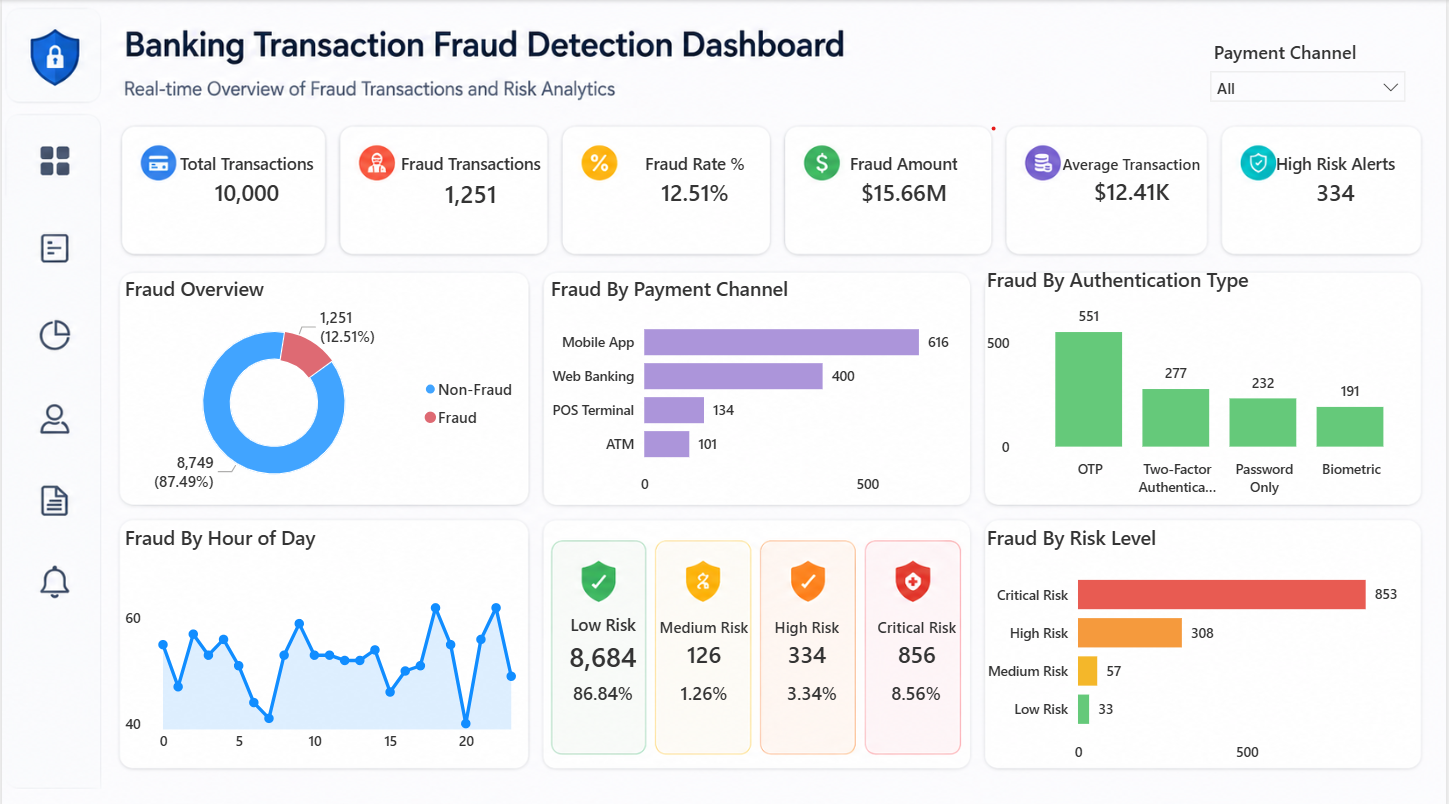

Layout of this report page (visuals, bound fields, positions):
{"tool":"powerbi","page":{"name":"Banking Transaction Fraud Detection ","canvas":[1280,720],"ordinal":0},"visuals":[{"type":"cardVisual","fields":{"Data":["banking_fraud_dashboard_data.Total Transactions"]},"box":[113.7,105,207.9,109.4],"z":0},{"type":"cardVisual","fields":{"Data":["banking_fraud_dashboard_data.Fraud Transactions"]},"box":[311.9,105,207.9,109.4],"z":1000},{"type":"cardVisual","fields":{"Data":["banking_fraud_dashboard_data.Fraud Rate %"]},"box":[511.1,105,207.9,109.4],"z":2000},{"type":"cardVisual","fields":{"Data":["banking_fraud_dashboard_data.Fraud Amount"]},"box":[696.3,105,207.9,109.4],"z":3000},{"type":"cardVisual","fields":{"Data":["banking_fraud_dashboard_data.Average Transaction"]},"box":[904.2,105,194.9,109.4],"z":4000},{"type":"cardVisual","fields":{"Data":["banking_fraud_dashboard_data.High Risk Alerts"]},"box":[1085.1,105,194.9,109.4],"z":5000},{"type":"slicer","fields":{"Values":["banking_fraud_dashboard_data.payment_channel"]},"box":[1061.3,30.3,192.8,65],"z":6000},{"type":"donutChart","title":"Fraud Overview","fields":{"Category":["banking_fraud_dashboard_data.fraud_category"],"Y":["banking_fraud_dashboard_data.Total Transactions"]},"box":[104,243.7,362.8,203.6],"z":8000},{"type":"clusteredBarChart","title":"Fraud By Payment Channel","fields":{"Category":["banking_fraud_dashboard_data.payment_channel"],"Y":["banking_fraud_dashboard_data.Fraud Transactions"]},"box":[481.9,243.7,376.9,203.6],"z":9000},{"type":"columnChart","title":"Fraud By Authentication Type","fields":{"Category":["banking_fraud_dashboard_data.authentication_type"],"Y":["banking_fraud_dashboard_data.Fraud Transactions"]},"box":[868.5,236.1,395.3,211.2],"z":10000},{"type":"lineChart","title":"Fraud By Hour of Day","fields":{"Category":["banking_fraud_dashboard_data.transaction_time_hour"],"Y":["banking_fraud_dashboard_data.Fraud Transactions"]},"box":[104,464.6,362.8,211.2],"z":11000},{"type":"clusteredBarChart","title":"Fraud By Risk Level","fields":{"Category":["banking_fraud_dashboard_data.ml_risk_band"],"Y":["banking_fraud_dashboard_data.Fraud Transactions"]},"box":[868.5,464.6,385.5,220.9],"z":12000},{"type":"cardVisual","fields":{"Data":["banking_fraud_dashboard_data.Low Risk"]},"box":[466.7,515.5,133.2,109.4],"z":13000},{"type":"cardVisual","fields":{"Data":["banking_fraud_dashboard_data.Low Risk %"]},"box":[466.7,558.8,133.2,109.4],"z":14000},{"type":"cardVisual","fields":{"Data":["banking_fraud_dashboard_data.Medium Risk %"]},"box":[555.5,558.8,133.2,109.4],"z":15000},{"type":"cardVisual","fields":{"Data":["banking_fraud_dashboard_data.Medium Risk"]},"box":[549,515.5,147.3,109.4],"z":16000},{"type":"cardVisual","fields":{"Data":["banking_fraud_dashboard_data.High Risk"]},"box":[640,515.5,147.3,109.4],"z":17000},{"type":"cardVisual","fields":{"Data":["banking_fraud_dashboard_data.Critical Risk"]},"box":[737.5,515.5,147.3,109.4],"z":18000},{"type":"cardVisual","fields":{"Data":["banking_fraud_dashboard_data.High Risk %"]},"box":[651.9,558.8,133.2,109.4],"z":18001},{"type":"cardVisual","fields":{"Data":["banking_fraud_dashboard_data.Critical Risk %"]},"box":[744,558.8,133.2,109.4],"z":18002}]}

Visuals, with their boxes on the page's 1280x720 design canvas (x1, y1, x2, y2). These are canvas units, not pixel positions in the 1449x804 screenshot, which may show the page scaled, cropped or inside an application window:
cardVisual - banking_fraud_dashboard_data.Total Transactions: select_region(114, 105, 322, 214)
cardVisual - banking_fraud_dashboard_data.Fraud Transactions: select_region(312, 105, 520, 214)
cardVisual - banking_fraud_dashboard_data.Fraud Rate %: select_region(511, 105, 719, 214)
cardVisual - banking_fraud_dashboard_data.Fraud Amount: select_region(696, 105, 904, 214)
cardVisual - banking_fraud_dashboard_data.Average Transaction: select_region(904, 105, 1099, 214)
cardVisual - banking_fraud_dashboard_data.High Risk Alerts: select_region(1085, 105, 1280, 214)
slicer - banking_fraud_dashboard_data.payment_channel: select_region(1061, 30, 1254, 95)
"Fraud Overview" donutChart: select_region(104, 244, 467, 447)
"Fraud By Payment Channel" clusteredBarChart: select_region(482, 244, 859, 447)
"Fraud By Authentication Type" columnChart: select_region(868, 236, 1264, 447)
"Fraud By Hour of Day" lineChart: select_region(104, 465, 467, 676)
"Fraud By Risk Level" clusteredBarChart: select_region(868, 465, 1254, 686)
cardVisual - banking_fraud_dashboard_data.Low Risk: select_region(467, 516, 600, 625)
cardVisual - banking_fraud_dashboard_data.Low Risk %: select_region(467, 559, 600, 668)
cardVisual - banking_fraud_dashboard_data.Medium Risk %: select_region(556, 559, 689, 668)
cardVisual - banking_fraud_dashboard_data.Medium Risk: select_region(549, 516, 696, 625)
cardVisual - banking_fraud_dashboard_data.High Risk: select_region(640, 516, 787, 625)
cardVisual - banking_fraud_dashboard_data.Critical Risk: select_region(738, 516, 885, 625)
cardVisual - banking_fraud_dashboard_data.High Risk %: select_region(652, 559, 785, 668)
cardVisual - banking_fraud_dashboard_data.Critical Risk %: select_region(744, 559, 877, 668)
